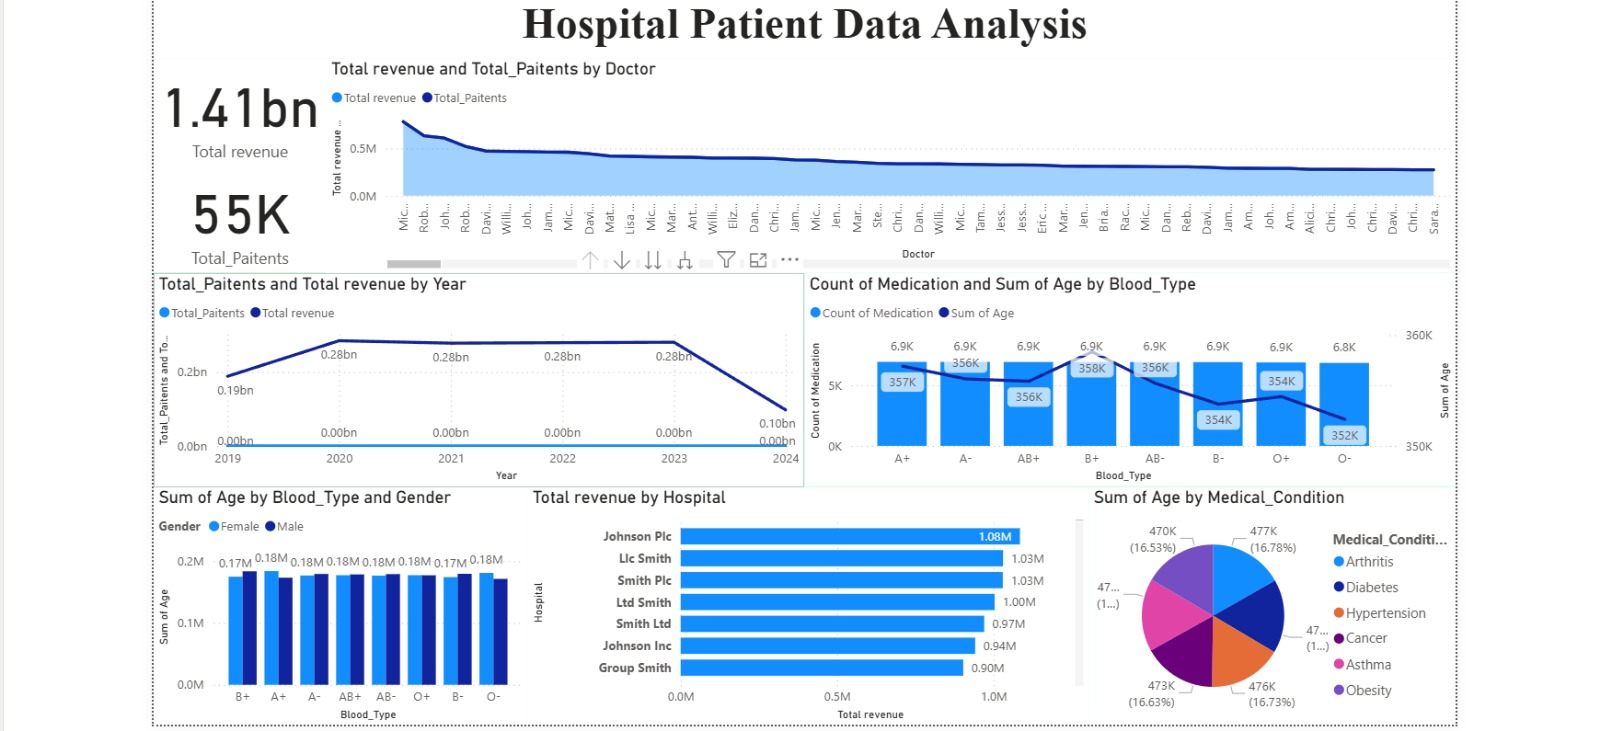

The page's visual inventory and layout, read from the dashboard file:
{"tool":"powerbi","page":{"name":"Page 1","canvas":[1280,720],"ordinal":0},"visuals":[{"type":"pieChart","fields":{"Y":["healthcare_dataset_cleaned_file.Age"],"Category":["healthcare_dataset_cleaned_file.Medical_Condition"]},"box":[919.4,485.8,360.9,234.6],"z":0},{"type":"barChart","fields":{"Category":["healthcare_dataset_cleaned_file.Hospital"],"Y":["healthcare_dataset_cleaned_file.Total revenue"]},"box":[367.8,485.8,551.6,234.6],"z":1000},{"type":"clusteredColumnChart","fields":{"Y":["healthcare_dataset_cleaned_file.Age"],"Category":["healthcare_dataset_cleaned_file.Blood_Type"],"Series":["healthcare_dataset_cleaned_file.Gender"]},"box":[0,485.8,367.8,234.6],"z":2000},{"type":"card","fields":{"Values":["healthcare_dataset_cleaned_file.Total revenue"]},"box":[0,64.5,170.2,105.7],"z":3000},{"type":"card","fields":{"Values":["healthcare_dataset_cleaned_file.Total_Paitents"]},"box":[0,170.2,170.2,105.7],"z":4000},{"type":"lineChart","fields":{"Category":["healthcare_dataset_cleaned_file.Date_of_Admission.Variation.Date Hierarchy.Year","healthcare_dataset_cleaned_file.Date_of_Admission.Variation.Date Hierarchy.Quarter","healthcare_dataset_cleaned_file.Date_of_Admission.Variation.Date Hierarchy.Month","healthcare_dataset_cleaned_file.Date_of_Admission.Variation.Date Hierarchy.Day"],"Y":["healthcare_dataset_cleaned_file.Total_Paitents","healthcare_dataset_cleaned_file.Total revenue"]},"box":[0,275.8,639.5,209.9],"z":5000},{"type":"lineClusteredColumnComboChart","fields":{"Category":["healthcare_dataset_cleaned_file.Blood_Type"],"Y":["healthcare_dataset_cleaned_file.Medication"],"Y2":["healthcare_dataset_cleaned_file.Age"]},"box":[639.5,275.8,640.8,209.9],"z":6000},{"type":"stackedAreaChart","fields":{"Category":["healthcare_dataset_cleaned_file.Doctor"],"Y":["healthcare_dataset_cleaned_file.Total revenue","healthcare_dataset_cleaned_file.Total_Paitents"]},"box":[170.2,64.5,1110.1,211.3],"z":7000},{"type":"textbox","box":[0,0,1280.3,64.5],"z":8000}]}

Visuals, with their boxes on the page's 1280x720 design canvas (x1, y1, x2, y2). These are canvas units, not pixel positions in the 1600x731 screenshot, which may show the page scaled, cropped or inside an application window:
pieChart - healthcare_dataset_cleaned_file.Age x healthcare_dataset_cleaned_file.Medical_Condition: x1=919, y1=486, x2=1280, y2=720
barChart - healthcare_dataset_cleaned_file.Hospital x healthcare_dataset_cleaned_file.Total revenue: x1=368, y1=486, x2=919, y2=720
clusteredColumnChart - healthcare_dataset_cleaned_file.Age x healthcare_dataset_cleaned_file.Blood_Type: x1=0, y1=486, x2=368, y2=720
card - healthcare_dataset_cleaned_file.Total revenue: x1=0, y1=64, x2=170, y2=170
card - healthcare_dataset_cleaned_file.Total_Paitents: x1=0, y1=170, x2=170, y2=276
lineChart - healthcare_dataset_cleaned_file.Date_of_Admission.Variation.Date Hierarchy.Year x healthcare_dataset_cleaned_file.Date_of_Admission.Variation.Date Hierarchy.Quarter: x1=0, y1=276, x2=640, y2=486
lineClusteredColumnComboChart - healthcare_dataset_cleaned_file.Blood_Type x healthcare_dataset_cleaned_file.Medication: x1=640, y1=276, x2=1280, y2=486
stackedAreaChart - healthcare_dataset_cleaned_file.Doctor x healthcare_dataset_cleaned_file.Total revenue: x1=170, y1=64, x2=1280, y2=276
textbox: x1=0, y1=0, x2=1280, y2=64
